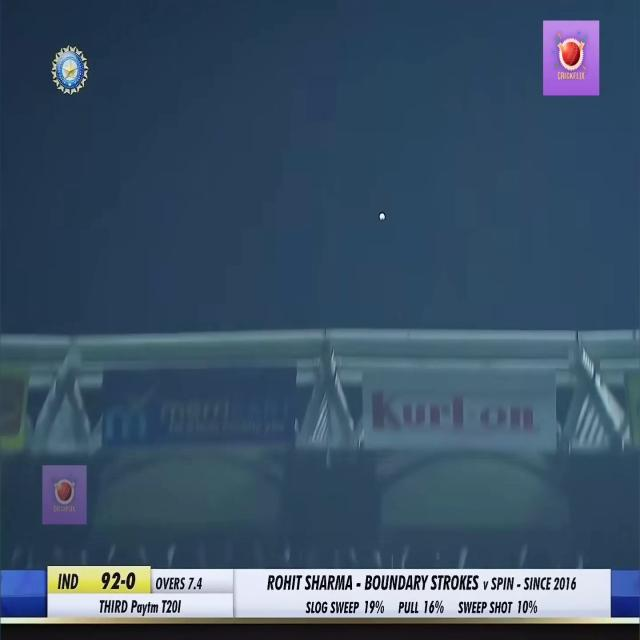fully_visible: (128, 594, 162, 620)
